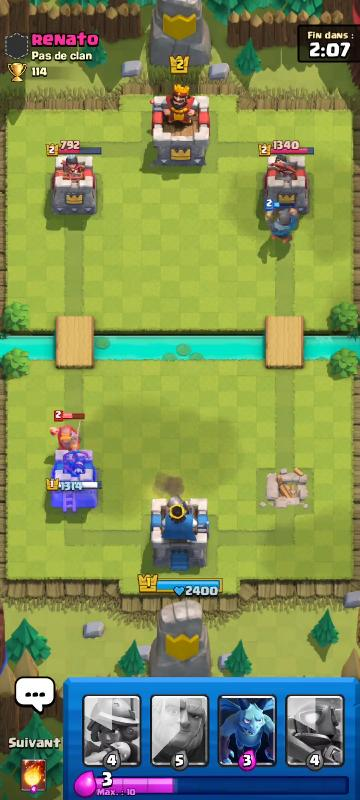geant: (263, 204, 305, 245)
mousquetaire: (45, 417, 91, 458)
